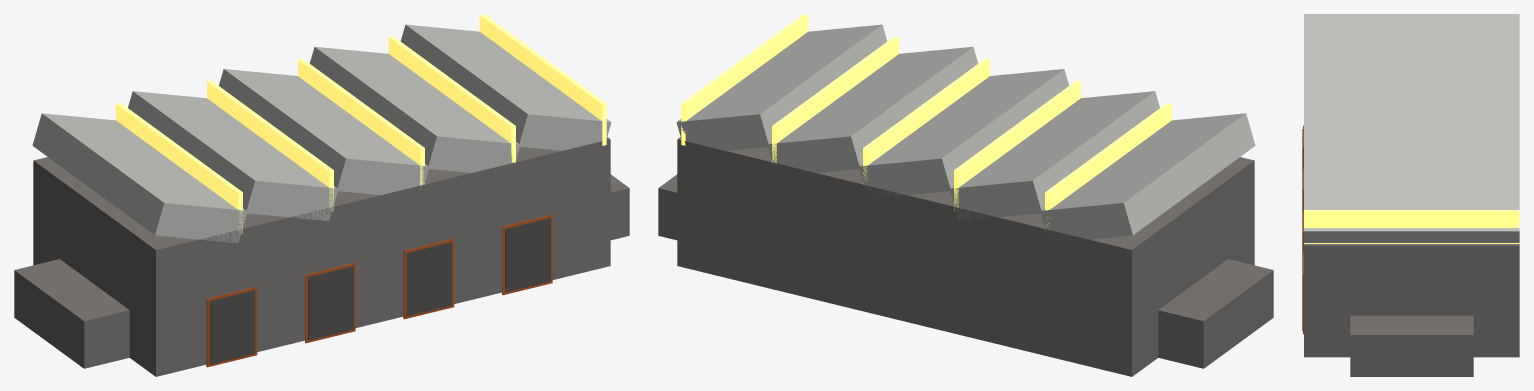
The model's file is processing_hall_script.glb.
The picture shows the model from 3 angles, left to right: view 1: azimuth 30°, elevation 25°; view 2: azimuth 150°, elevation 25°; view 3: azimuth 270°, elevation 25°; orthographic projection. The views are drawn at different scales.
Visible parts, largest first — view 1: Cube, Cube.001, Cube.003, Cube.005, Cube.009, Cube.007, Cube.019, Cube.016, Cube.012, Cube.014, Cube.018, Cube.010 (+9 smaller); view 2: Cube, Cube.001, Cube.003, Cube.005, Cube.007, Cube.009, Cube.019, Cube.008, Cube.010, Cube.004, Cube.006, Cube.002 (+1 smaller); view 3: Cube, Cube.009, Cube.003, Cube.005, Cube.007, Cube.001, Cube.020, Cube.010.
Part boxes in pixels (left/top/right/bottom): Cube: left=33, top=137, right=610, bottom=376; Cube.001: left=32, top=113, right=247, bottom=243; Cube.003: left=128, top=91, right=338, bottom=220; Cube.005: left=219, top=69, right=429, bottom=195; Cube.009: left=400, top=24, right=611, bottom=150; Cube.007: left=309, top=46, right=519, bottom=172; Cube.019: left=14, top=259, right=129, bottom=368; Cube.016: left=406, top=242, right=452, bottom=316; Cube.012: left=209, top=290, right=255, bottom=364; Cube.014: left=308, top=266, right=353, bottom=340; Cube.018: left=505, top=218, right=550, bottom=292; Cube.010: left=479, top=14, right=606, bottom=145; Cube: left=677, top=137, right=1254, bottom=376; Cube.001: left=1040, top=113, right=1255, bottom=241; Cube.003: left=950, top=91, right=1159, bottom=220; Cube.005: left=858, top=69, right=1068, bottom=198; Cube.007: left=767, top=46, right=978, bottom=172; Cube.009: left=676, top=24, right=887, bottom=150; Cube.019: left=1158, top=259, right=1273, bottom=368; Cube.008: left=772, top=36, right=899, bottom=162; Cube.010: left=681, top=14, right=808, bottom=145; Cube.004: left=954, top=80, right=1080, bottom=211; Cube.006: left=863, top=58, right=989, bottom=184; Cube.002: left=1045, top=103, right=1171, bottom=228; Cube: left=1304, top=244, right=1519, bottom=357; Cube.009: left=1304, top=170, right=1519, bottom=242; Cube.003: left=1304, top=53, right=1519, bottom=92; Cube.005: left=1304, top=92, right=1519, bottom=131; Cube.007: left=1304, top=131, right=1519, bottom=170; Cube.001: left=1304, top=14, right=1519, bottom=52; Cube.020: left=1350, top=315, right=1473, bottom=376; Cube.010: left=1304, top=210, right=1519, bottom=243.
Bounding box in the file's own units: 36 × 11 × 14.11.
